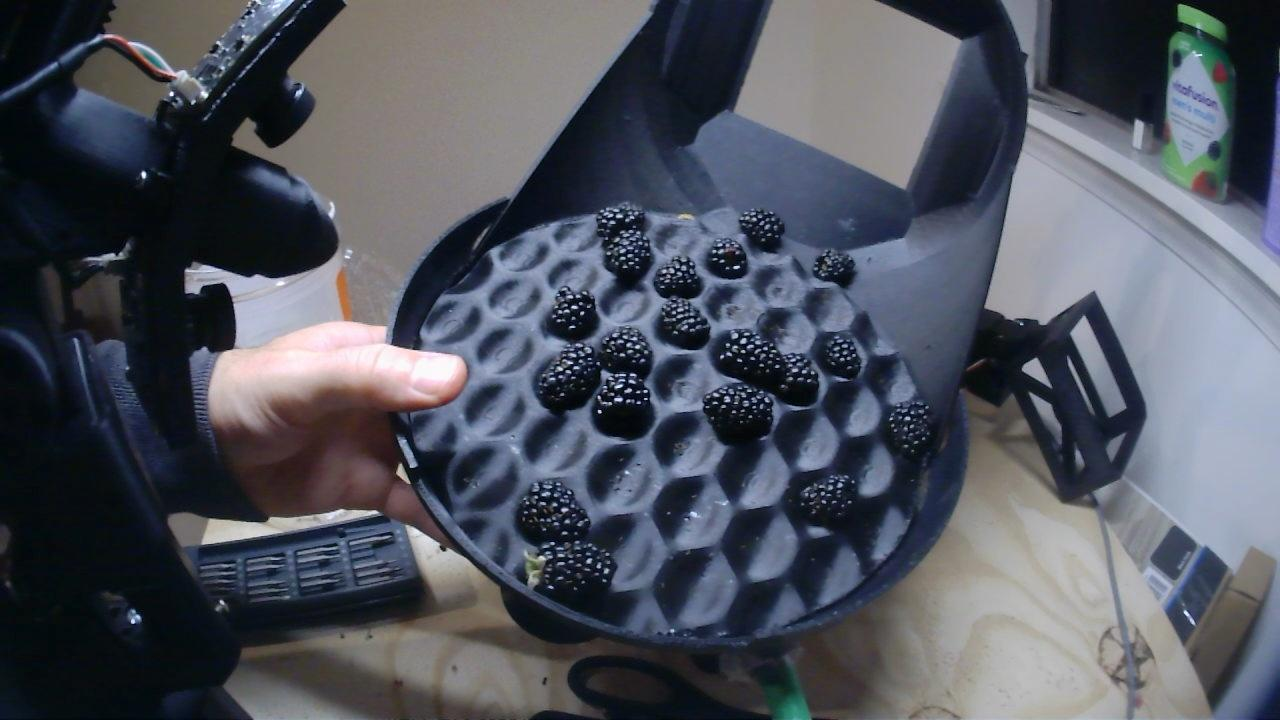berry: (534, 541, 614, 605), (518, 481, 590, 541), (703, 383, 773, 443), (714, 330, 785, 389), (535, 344, 600, 408), (593, 372, 651, 437), (797, 474, 856, 526), (546, 286, 597, 340), (887, 401, 934, 459), (603, 229, 652, 281), (657, 301, 707, 345), (775, 353, 819, 403), (601, 328, 649, 372), (654, 256, 702, 294), (739, 210, 782, 248), (596, 203, 644, 237), (822, 336, 861, 377), (707, 238, 745, 276), (815, 249, 854, 283)
